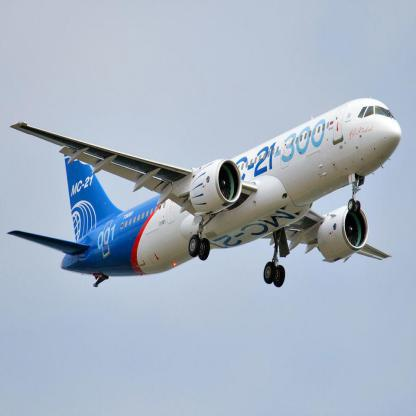CIV_Plane: (2, 92, 402, 289)
